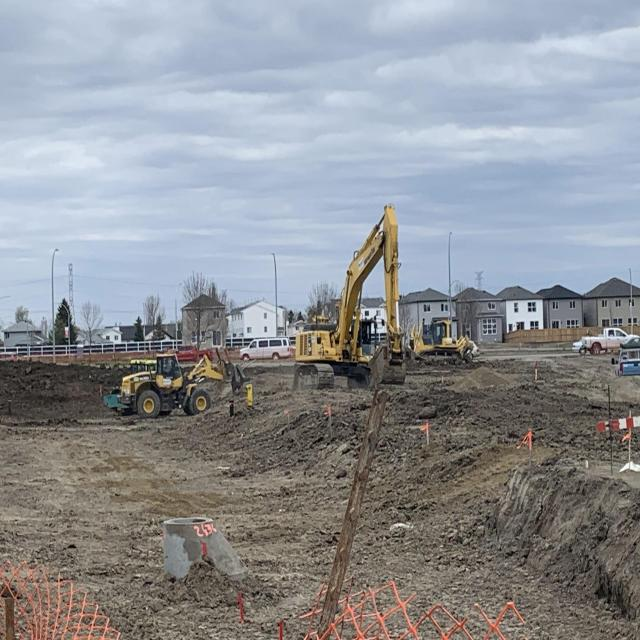buldozerpayloadergrader: (110, 348, 248, 428)
excavator: (294, 209, 419, 391)
